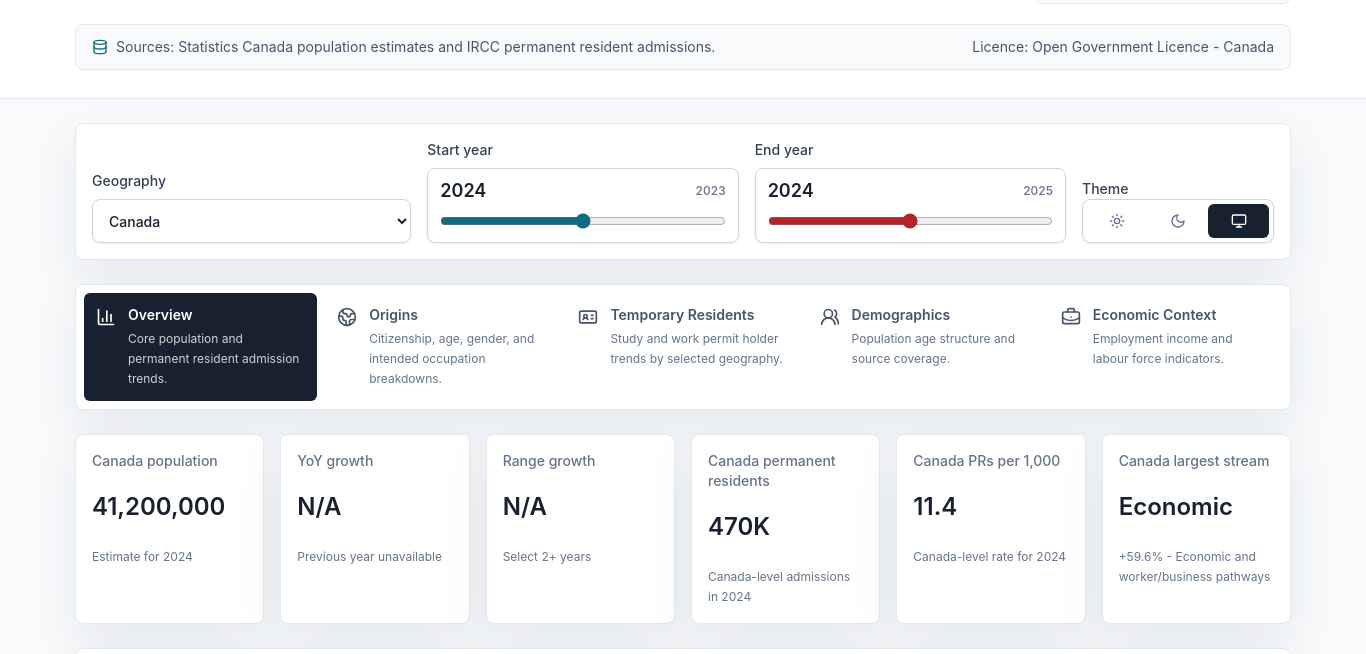
Test: App dashboard smoke tests › loads temporary, origins, demographics, and economic modules from their tabs
(page scrolled)
Click the button "Temporary Residents" at (683, 347), box [566,293,800,401]
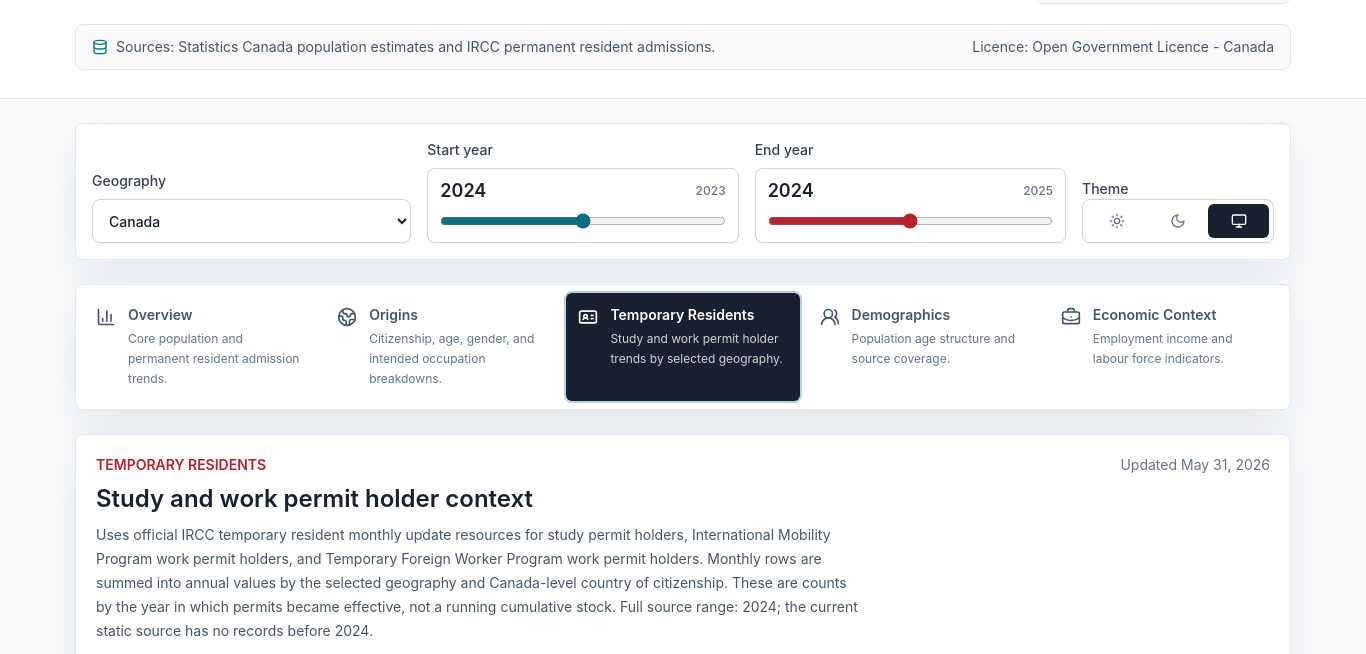
Now the heading "Study and work permit holder context" is shown, box [96,484,533,513]
Click the button "Origins" at (442, 347), box [325,293,558,401]
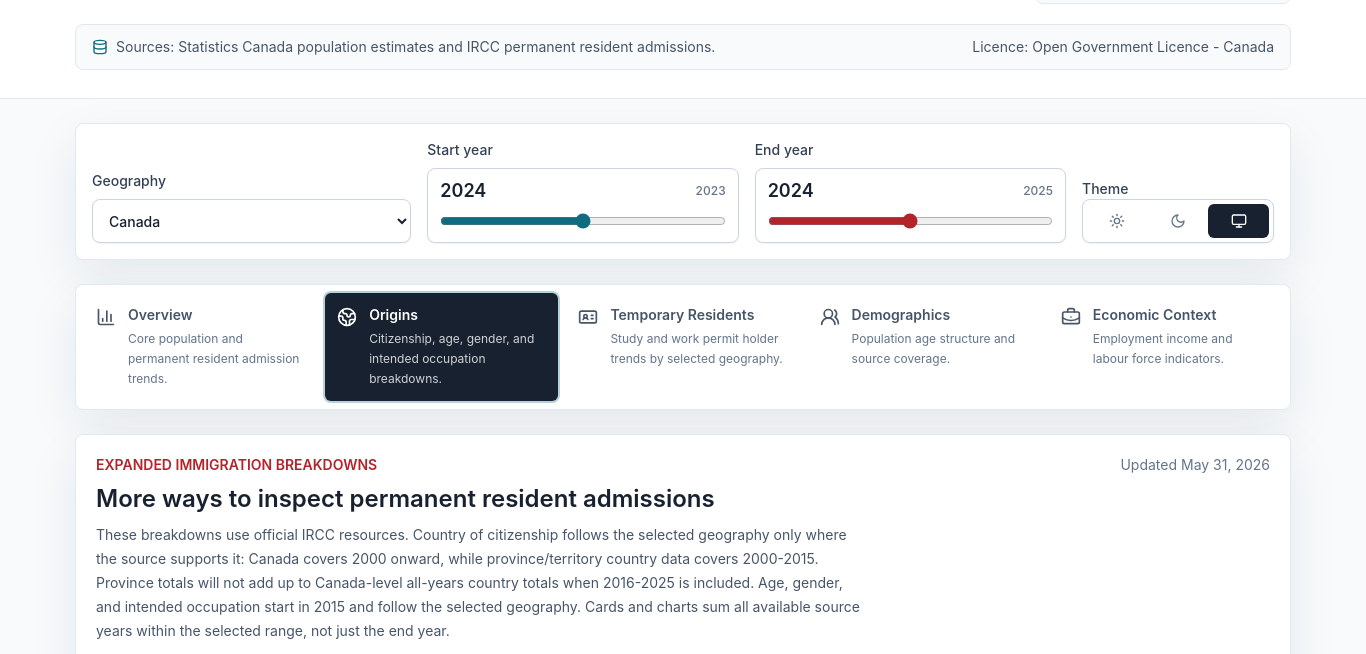
Click the button "Demographics Population age structure and source coverage." at (924, 347), box [808,293,1041,401]
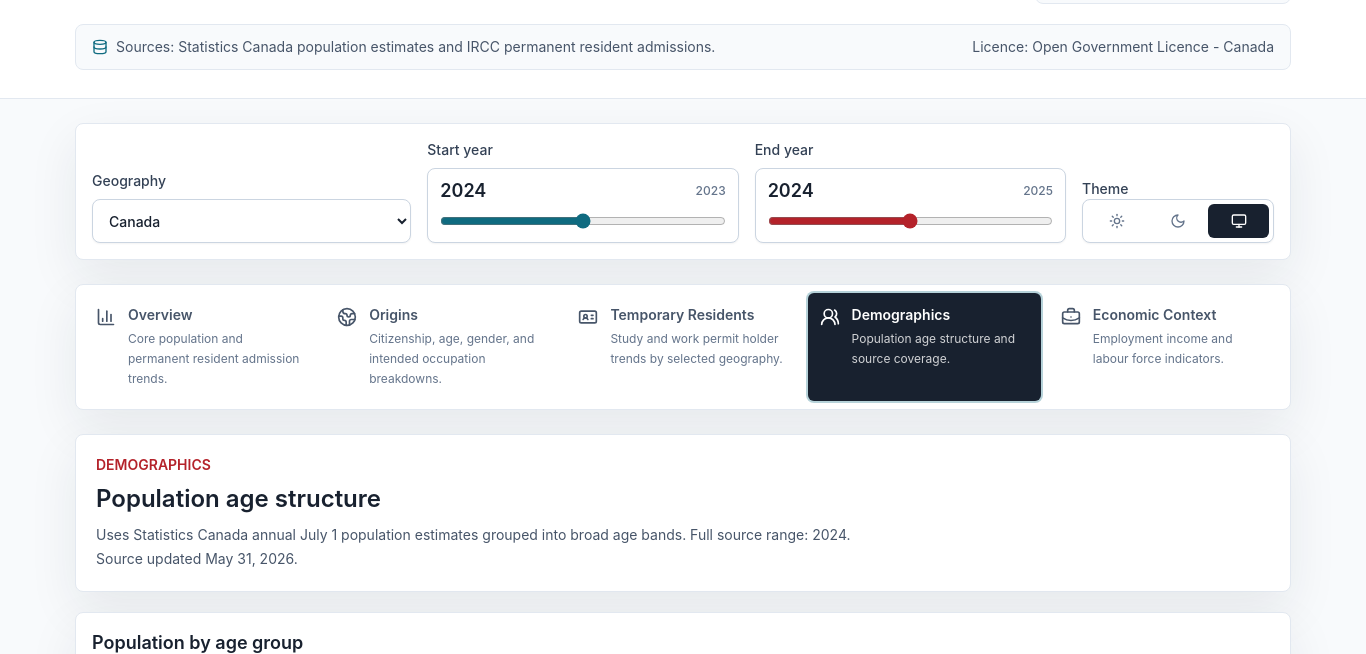
Now the heading "Population age structure" is shown, box [96,484,381,513]
Click the button "Economic Context" at (1165, 347), box [1049,293,1282,401]
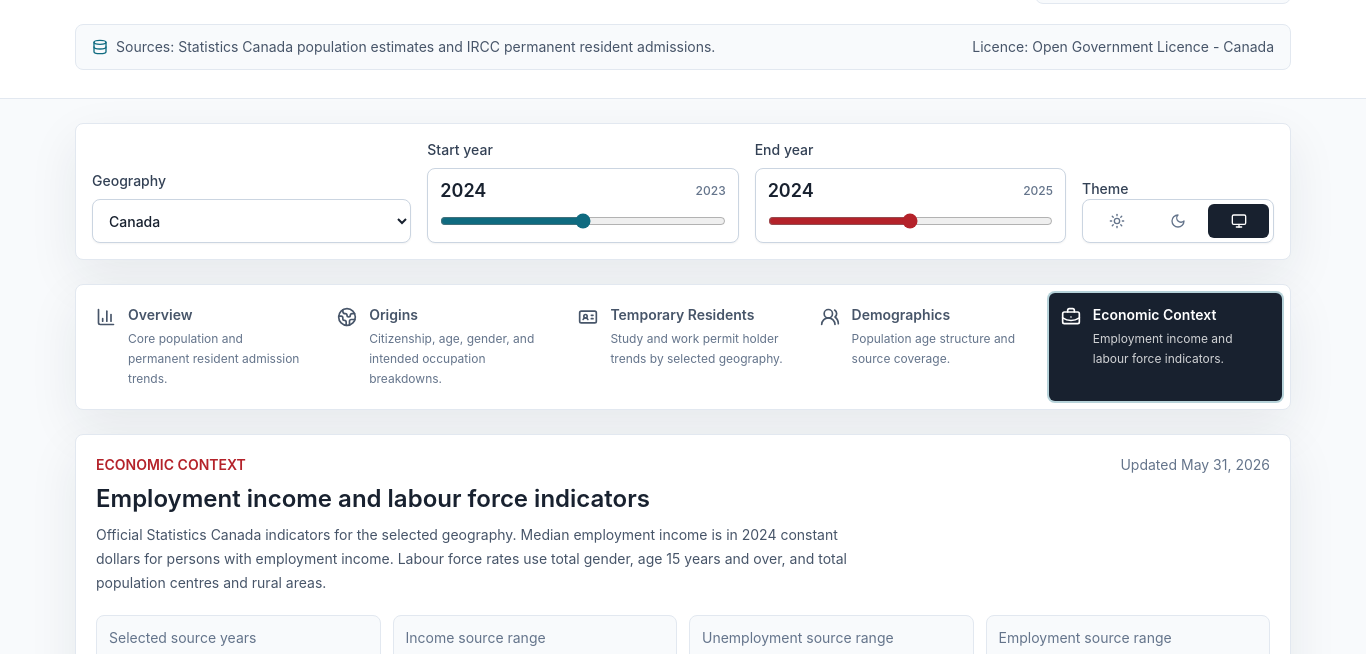
Now the heading "Employment income and labour force indicators" is shown, box [96,484,650,513]
